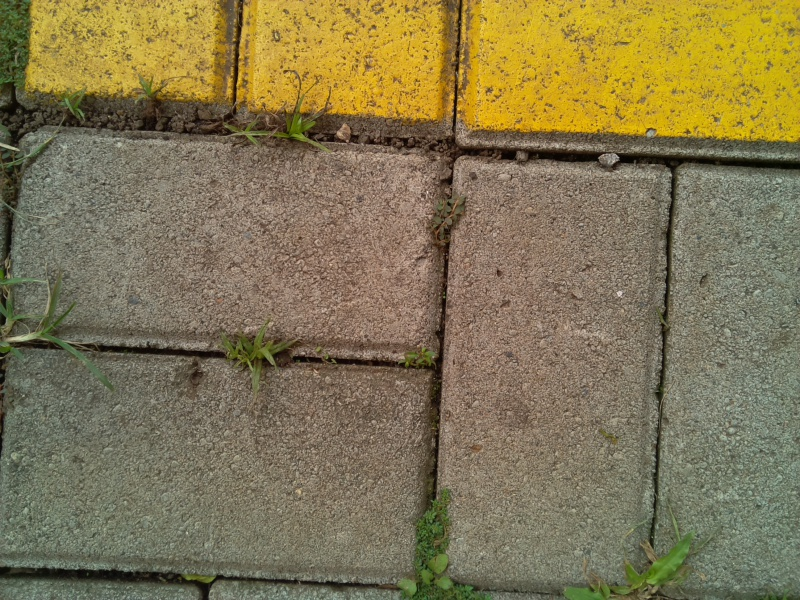Weed: (395, 490, 478, 600), (237, 86, 330, 160), (595, 532, 695, 598), (4, 282, 81, 367), (214, 320, 292, 395), (421, 188, 475, 253), (1, 1, 41, 77), (1, 137, 54, 179), (394, 339, 443, 380), (56, 89, 94, 130), (128, 76, 166, 109), (653, 314, 681, 344)
